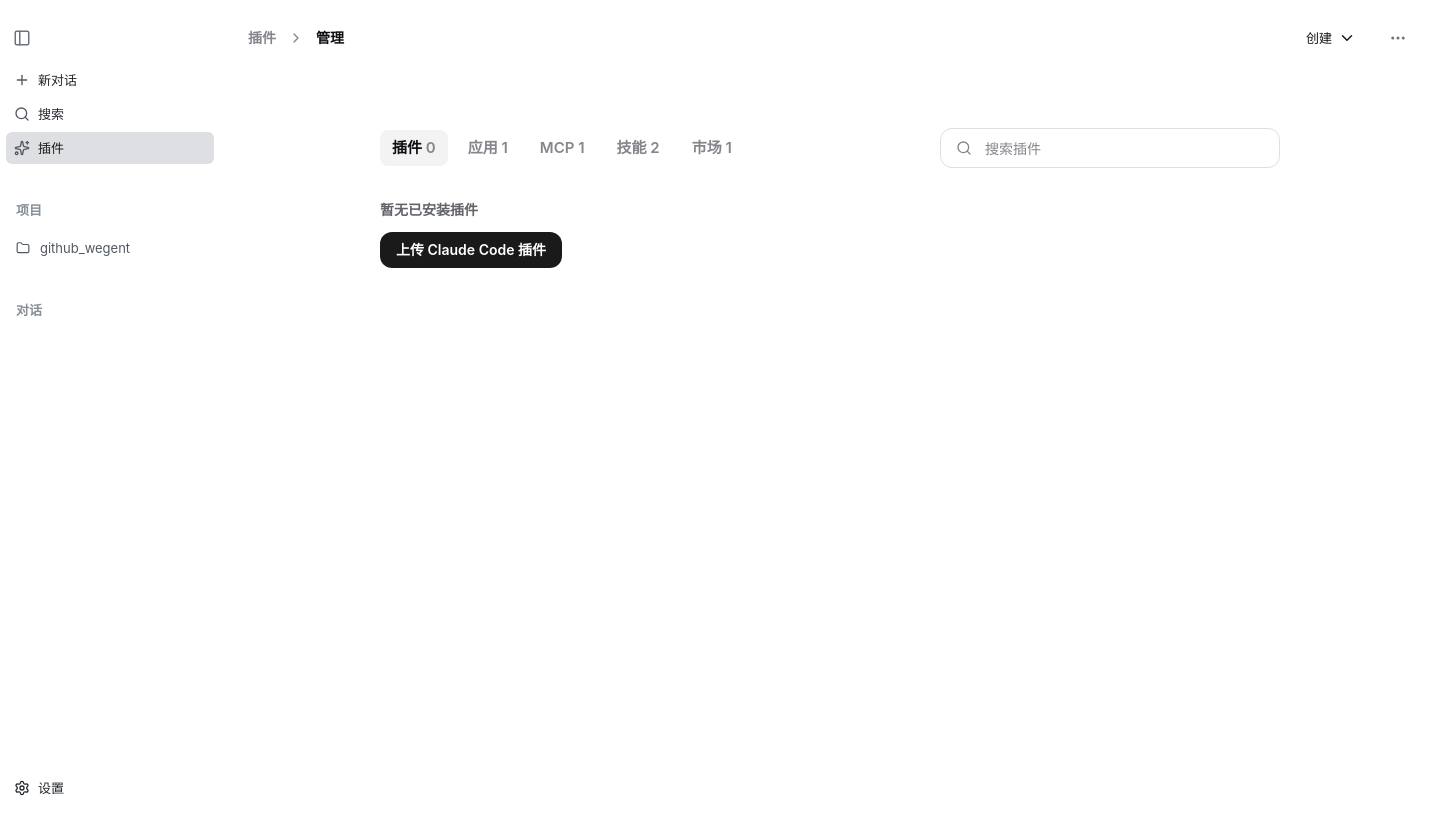
Test: App plugins route › shows and uninstalls personal skills from management page
Click the tab "技能 2" at (638, 148), box [604,130,672,166]
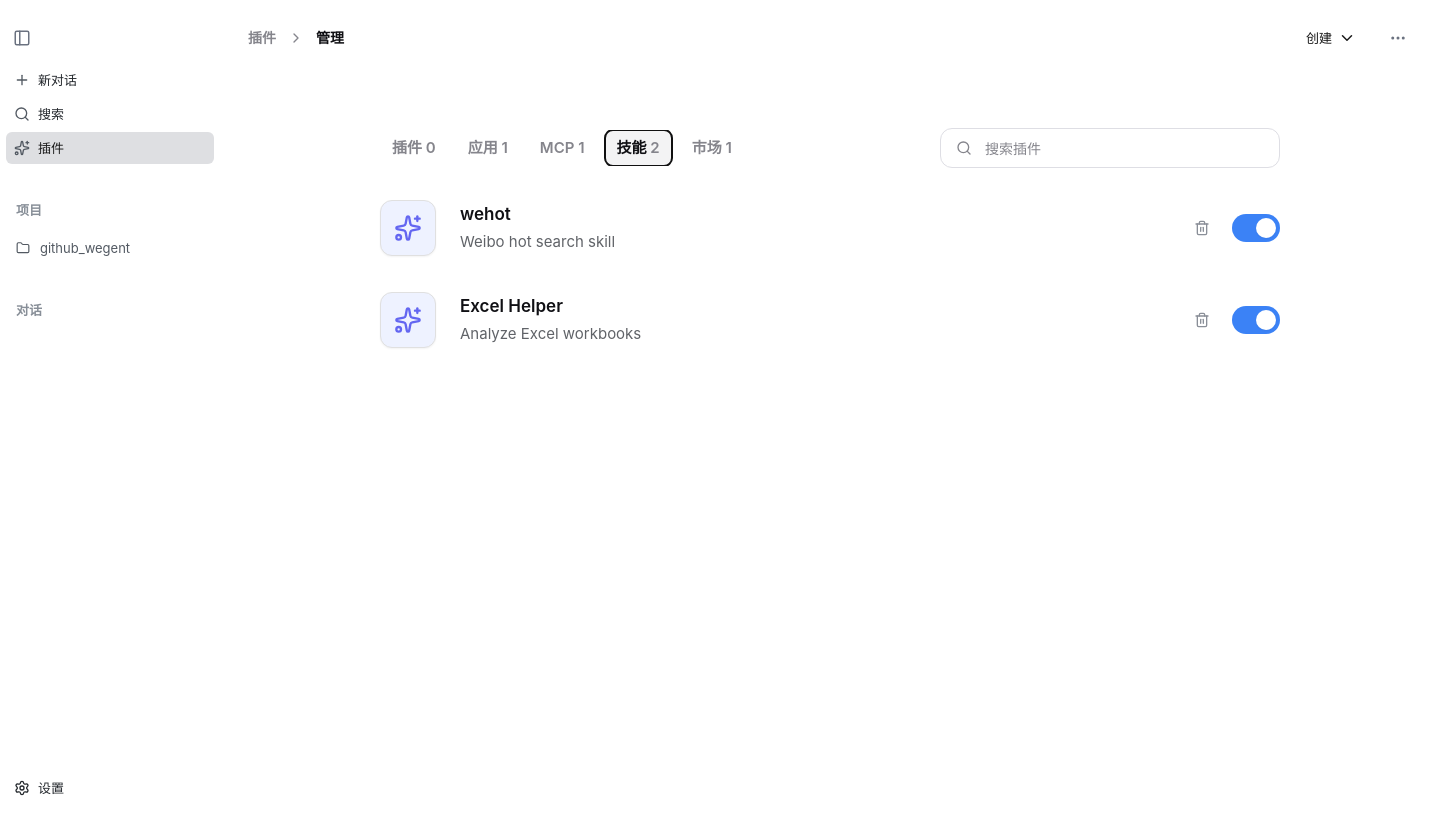
Expected: the heading "Excel Helper" is shown, [460,296,563,316]
Expected: the text "Analyze Excel workbooks" is shown, [460,324,641,343]
Click the switch with test id "installed-skill-toggle-88" at (1256, 320), box [1232,306,1280,334]
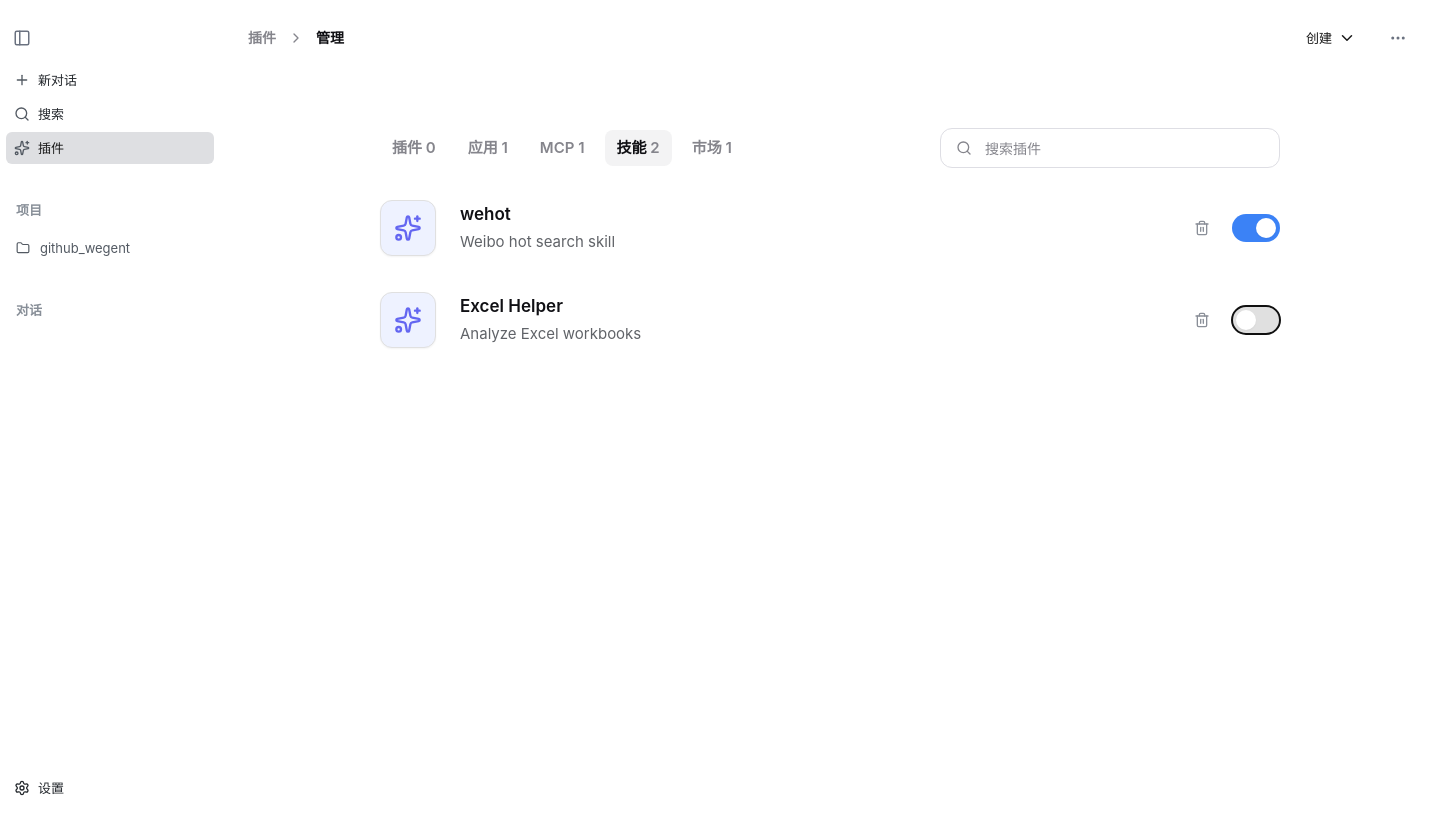
Click the button with test id "installed-skill-uninstall-88" at (1202, 320), box [1184,302,1220,338]
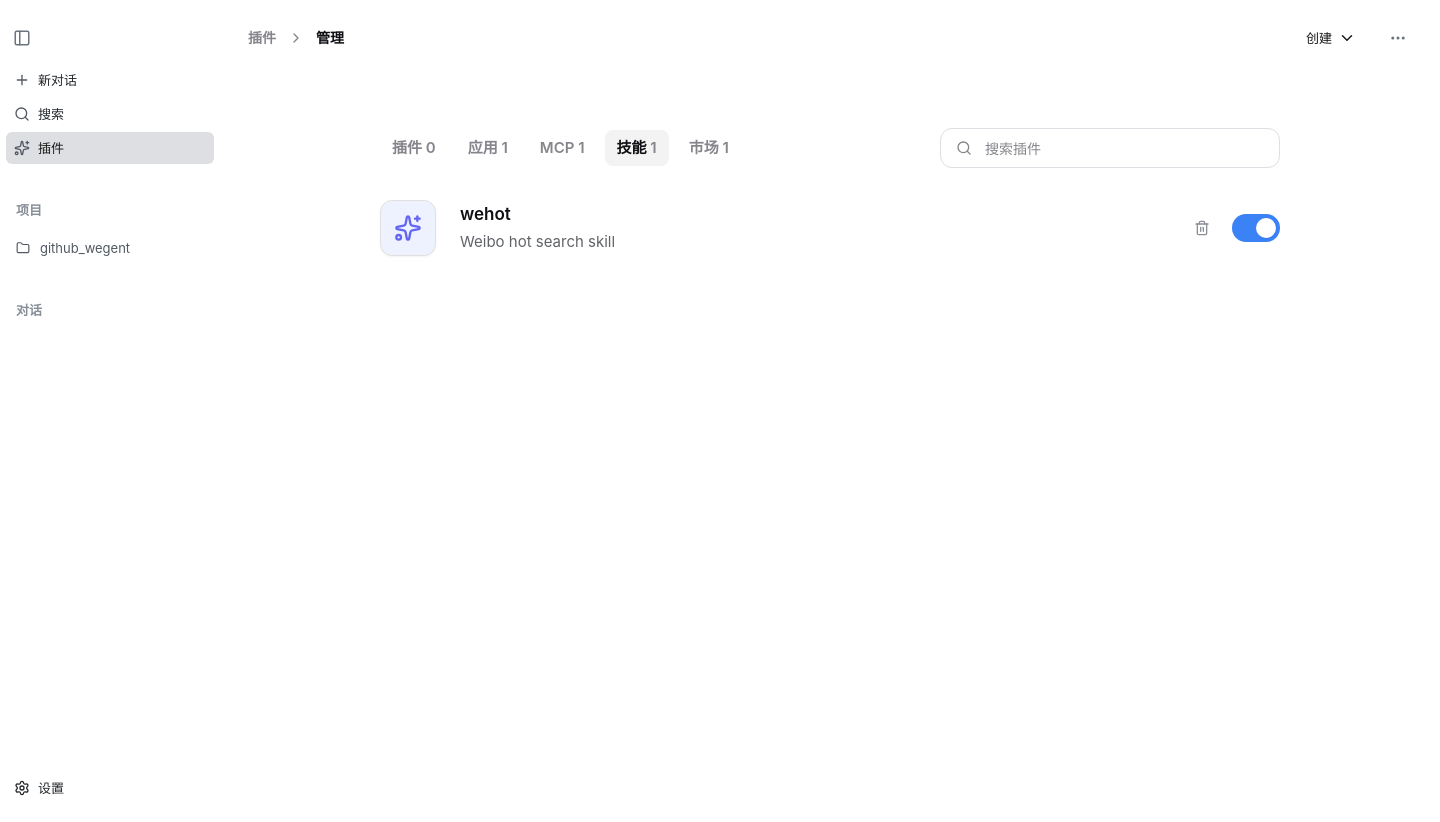
Expected: the heading "Excel Helper" is gone
